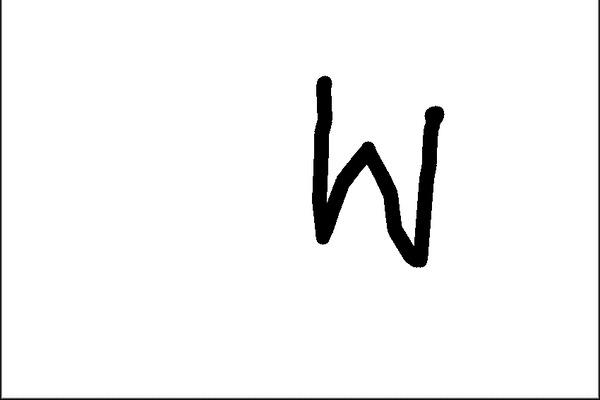w: (290, 61, 448, 280)
